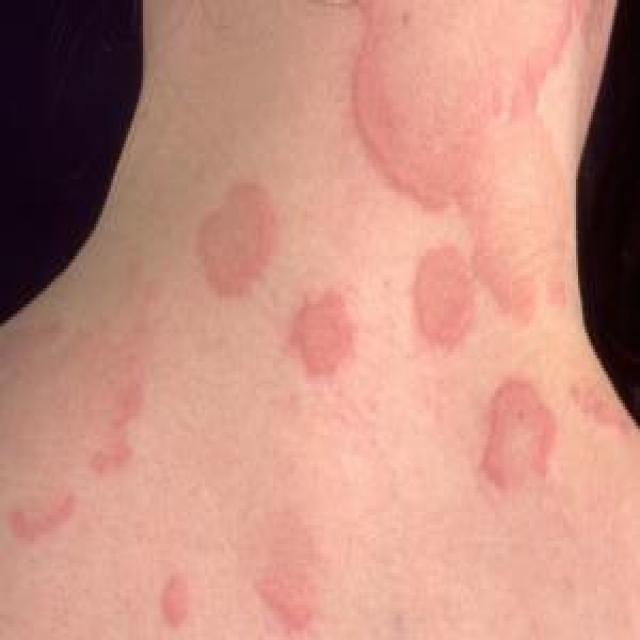hives: (3, 3, 638, 635)
